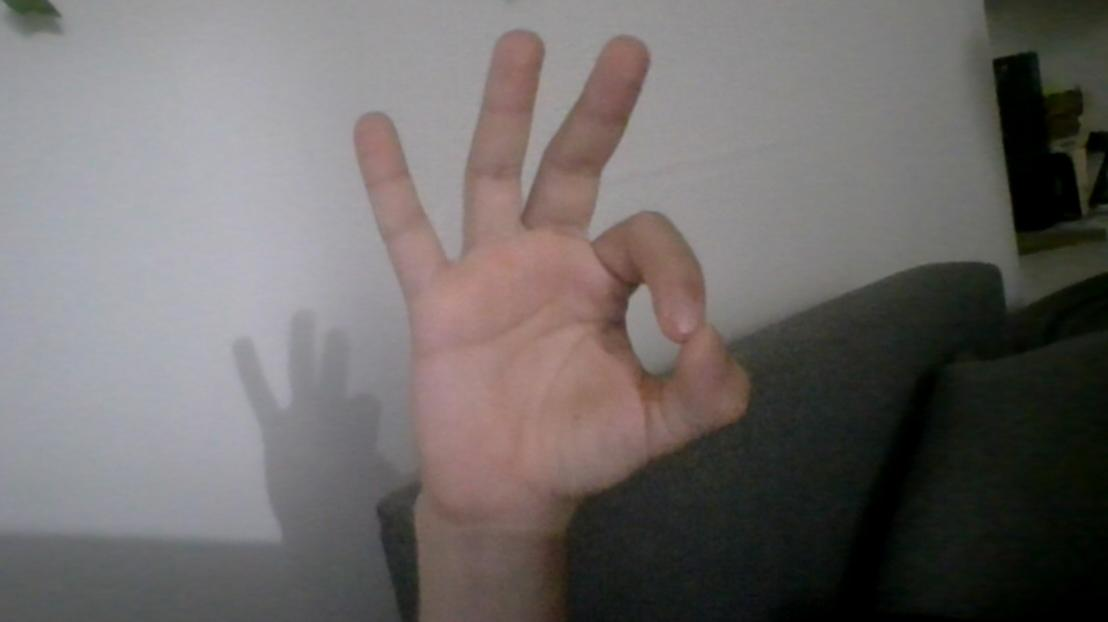zero: (344, 16, 770, 529)
